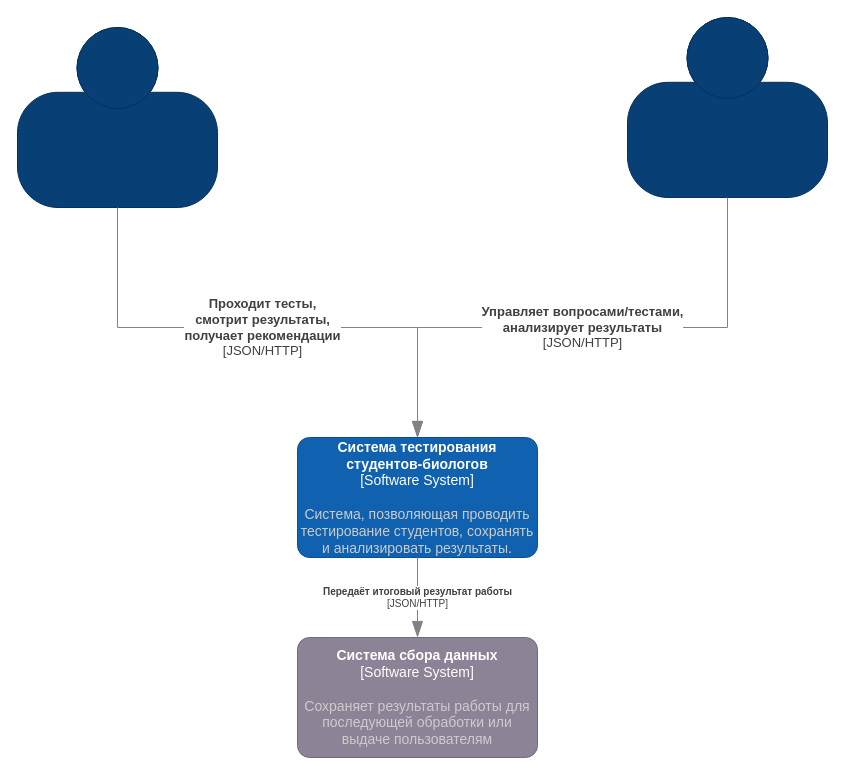
Some shapes in this 845 by 775 pixel diagram are drawn without their labels. The shapes that lost their labels are listed below. From the top down, each one's centre as x and y in pixels, then its label:
pixel 117 117: Студент [Person] проходит тесты, получает результаты и рекомендации.
pixel 727 107: Преподаватель [Person] создаёт/редактирует вопросы и тесты, смотрит результаты.
